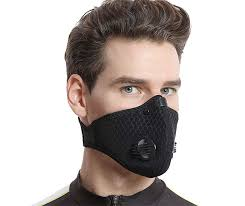flumask: (94, 101, 183, 175)
